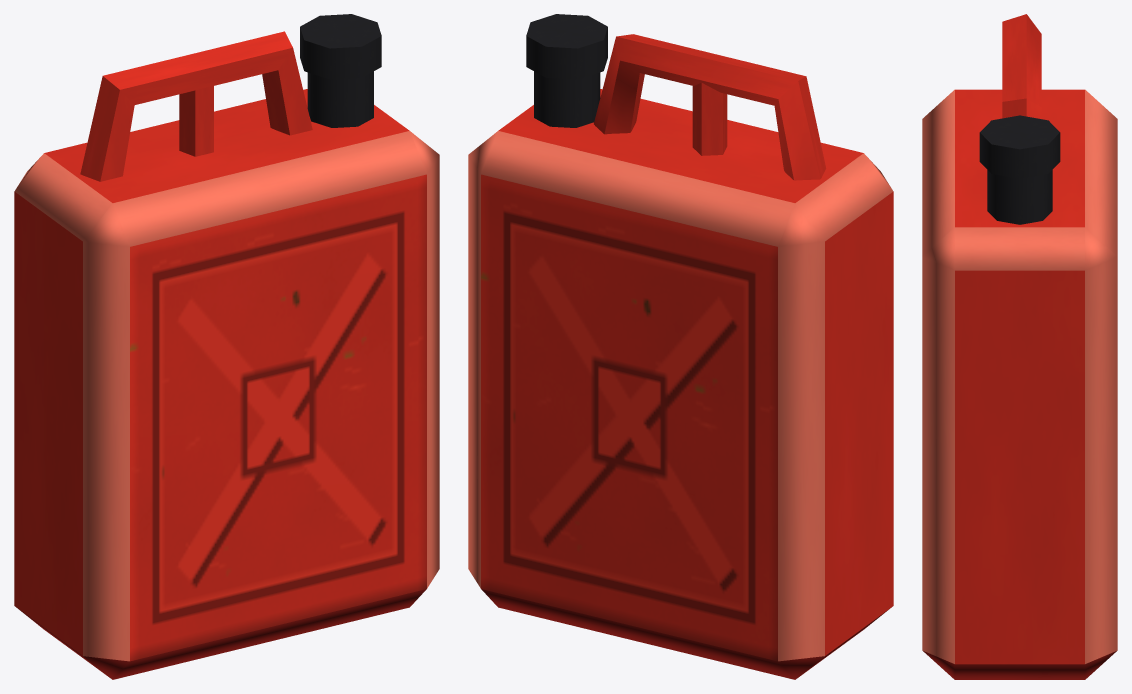
Rendered from Jerrycan_Red.fbx.
The picture shows the model from 3 angles, left to right: view 1: azimuth 30°, elevation 25°; view 2: azimuth 150°, elevation 25°; view 3: azimuth 270°, elevation 25°; orthographic projection. The views are drawn at different scales.
Visible parts, largest first — view 1: Jerrycan_Red_Body; view 2: Jerrycan_Red_Body; view 3: Jerrycan_Red_Body.
Boxes of the visible parts, x1,y1,x2,y2 form: Jerrycan_Red_Body: (14,14,439,679); Jerrycan_Red_Body: (468,14,893,679); Jerrycan_Red_Body: (922,14,1117,679).
Size of the model in its own units: 0.36 by 0.5498 by 0.18.
1 material, 1 textured.
